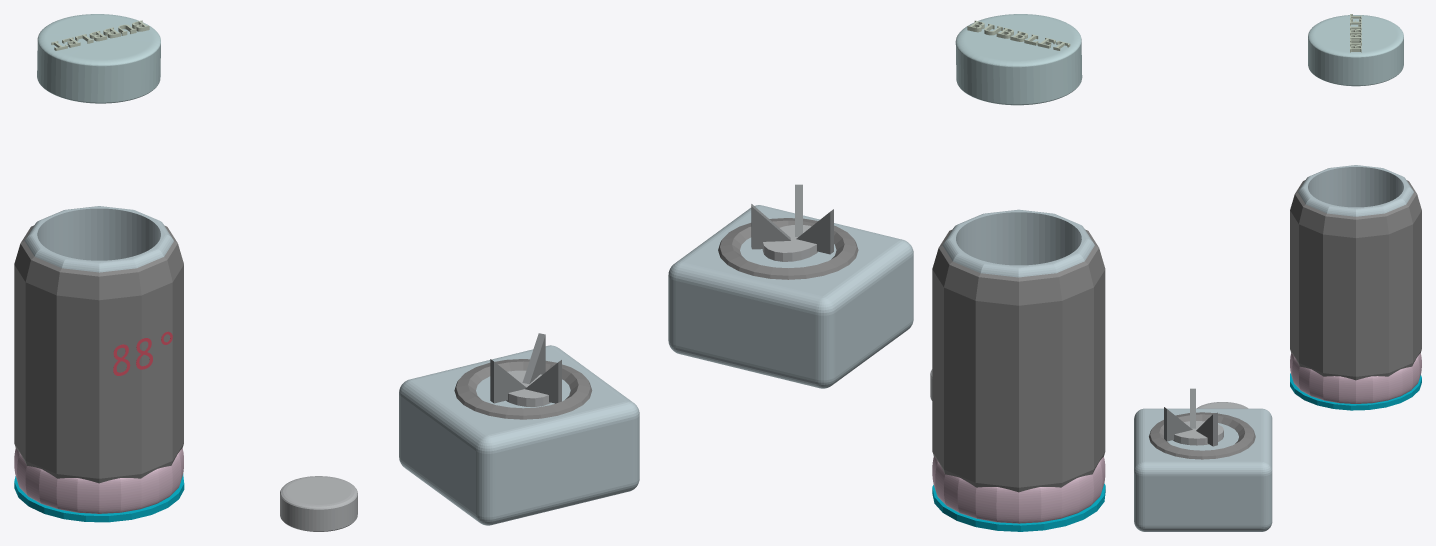
The model's file is Bubblet - CAD.glb.
The picture shows the model from 3 angles, left to right: view 1: azimuth 30°, elevation 25°; view 2: azimuth 150°, elevation 25°; view 3: azimuth 270°, elevation 25°; orthographic projection. The views are drawn at different scales.
Visible parts, largest first — view 1: Mesh_Mesh_head_geo.001_lambert2SG.001; view 2: Mesh_Mesh_head_geo.001_lambert2SG.001; view 3: Mesh_Mesh_head_geo.001_lambert2SG.001.
Boxes of the visible parts, box(x1,y1,x2,y2) form: Mesh_Mesh_head_geo.001_lambert2SG.001: box(14, 14, 639, 531); Mesh_Mesh_head_geo.001_lambert2SG.001: box(668, 14, 1105, 531); Mesh_Mesh_head_geo.001_lambert2SG.001: box(1134, 14, 1421, 531).
Size of the model in its own units: 71.23 by 65.59 by 48.
